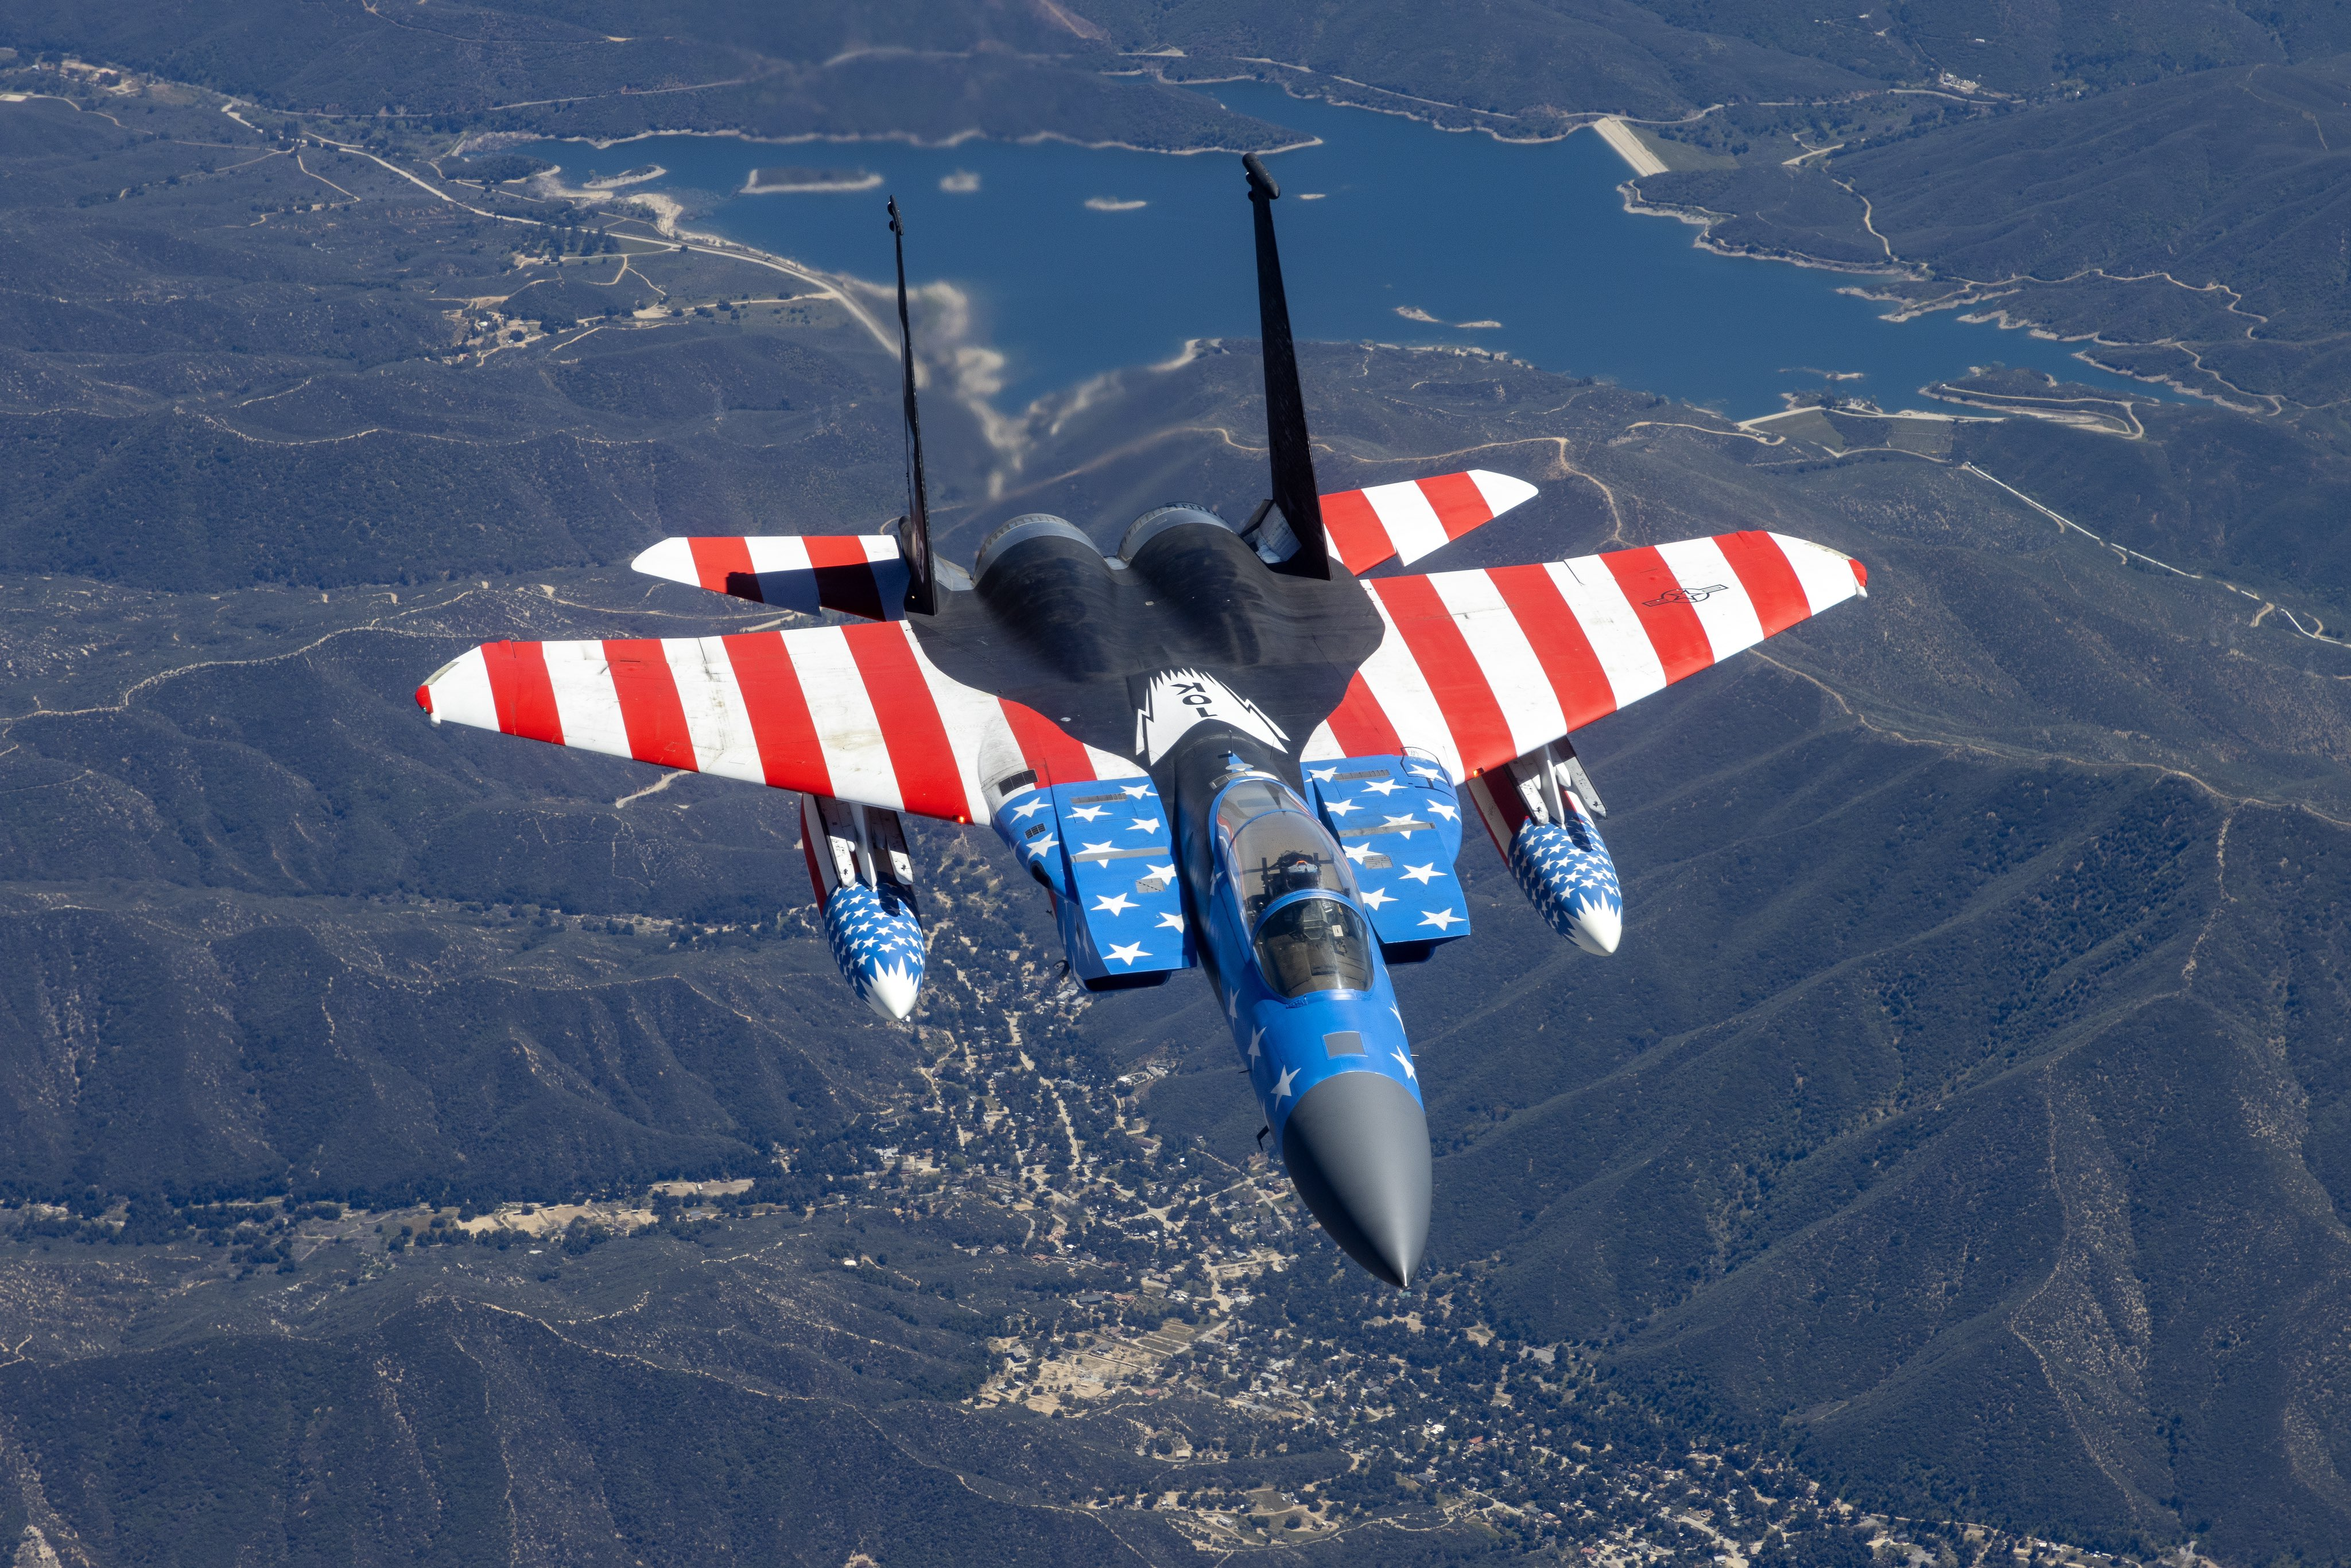airplane: (415, 152, 1868, 1290)
